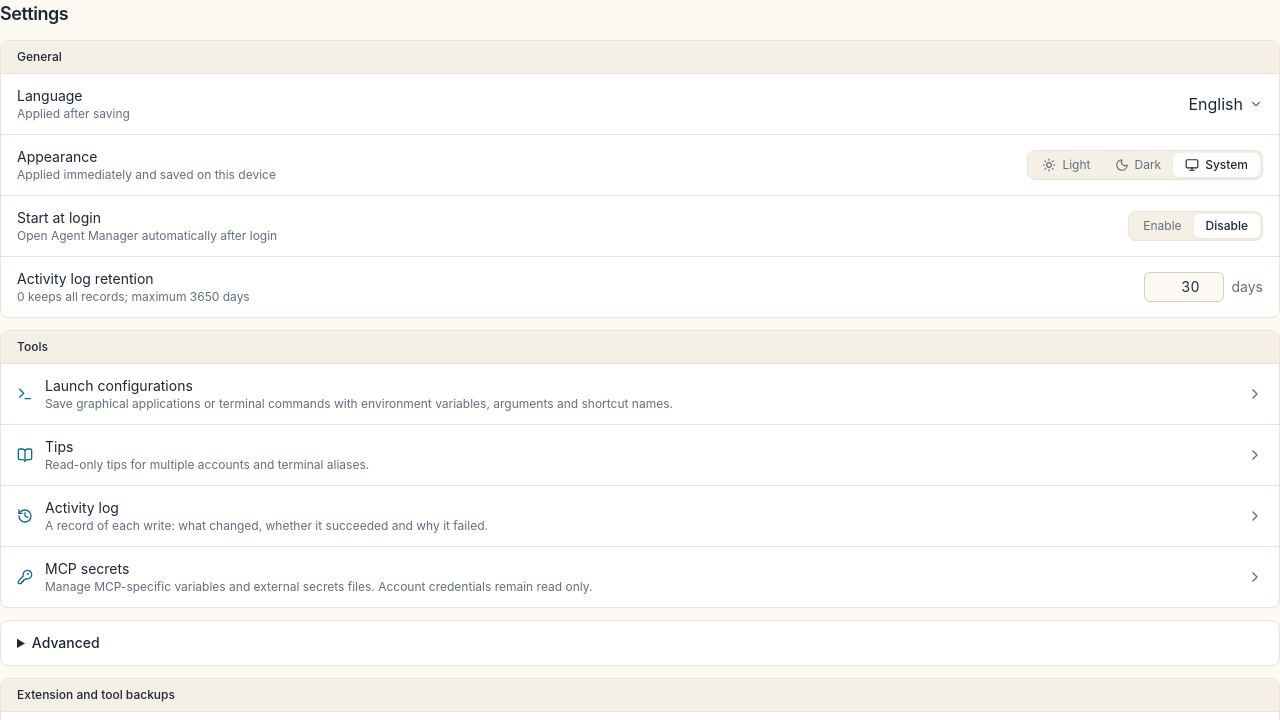
Test: SettingsPage › DEV mock 保存后再次读取仍保留偏好
Replace the text in the number field named "Log retention days" with "45": {"x": 1184, "y": 287} [1144,272,1224,302]
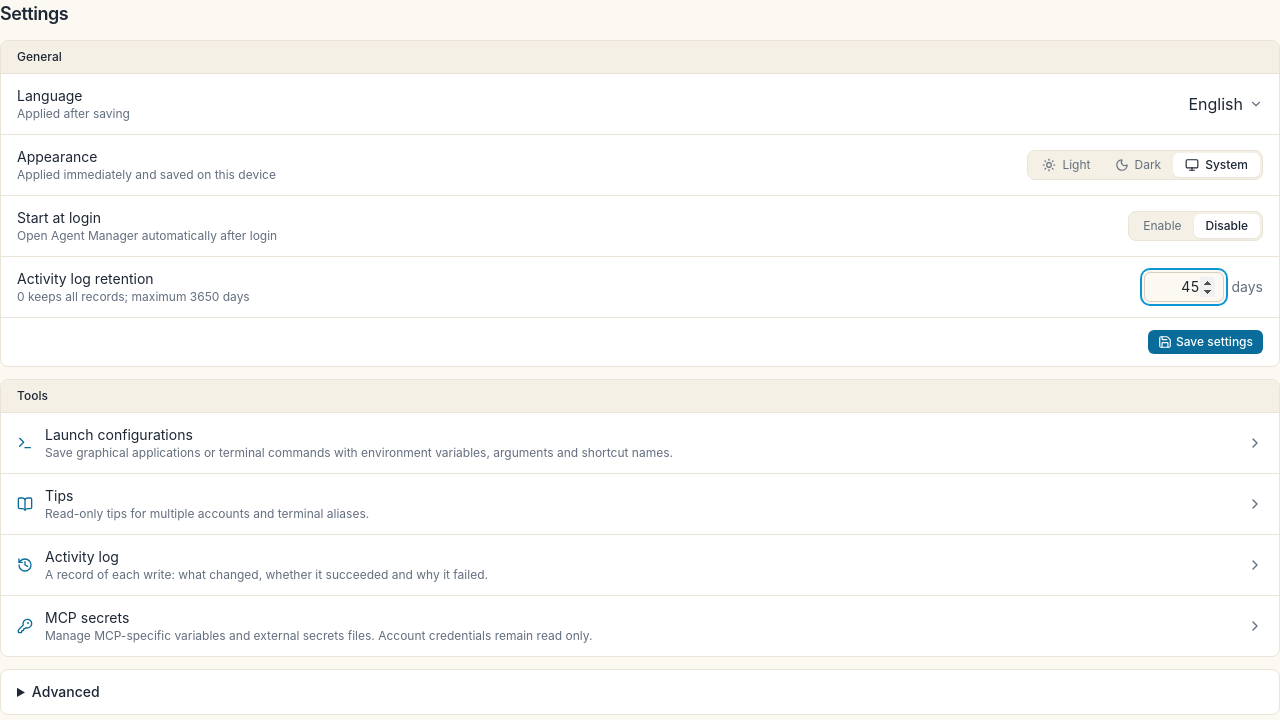
Click the button "Save settings": {"x": 1205, "y": 342} [1148,330,1263,354]
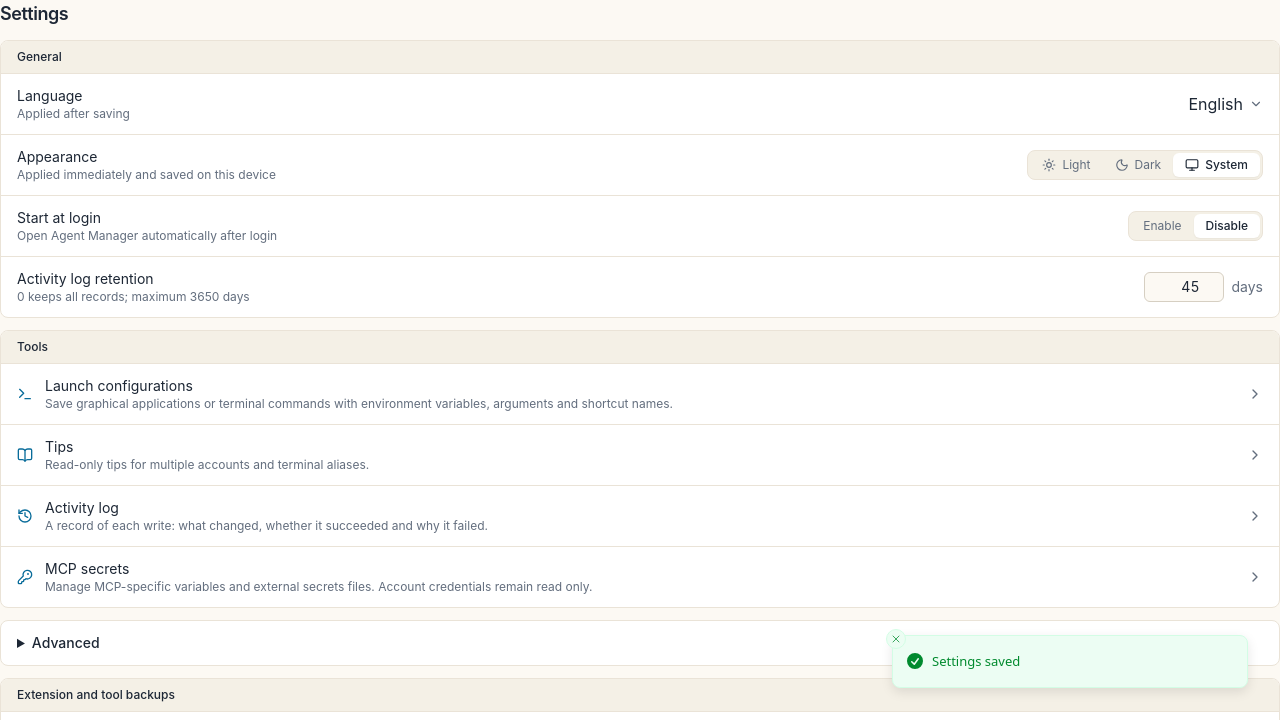
Result: the text "Settings saved" is shown at [932,652,1020,671]
